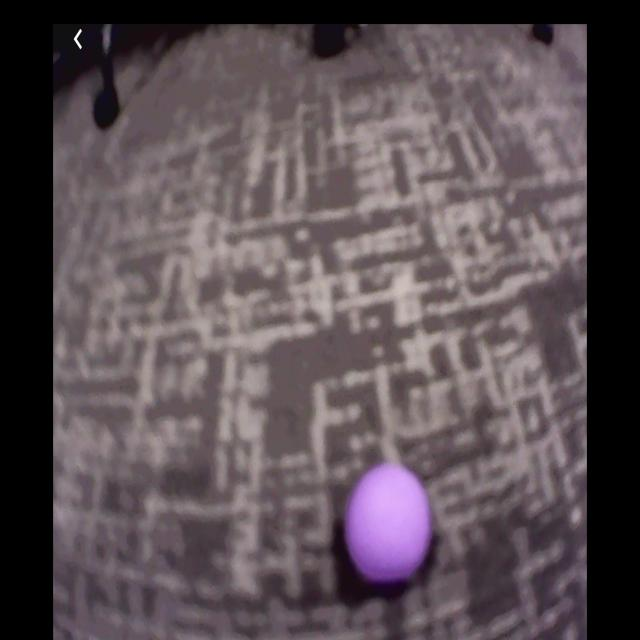ball: (348, 467, 431, 583)
